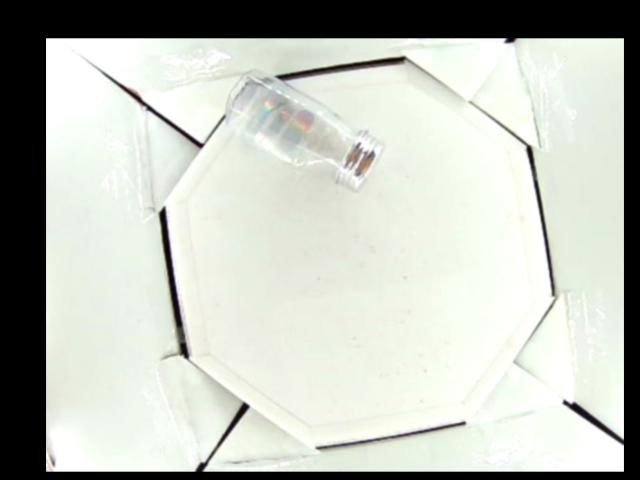Bottle: (223, 69, 387, 189)
